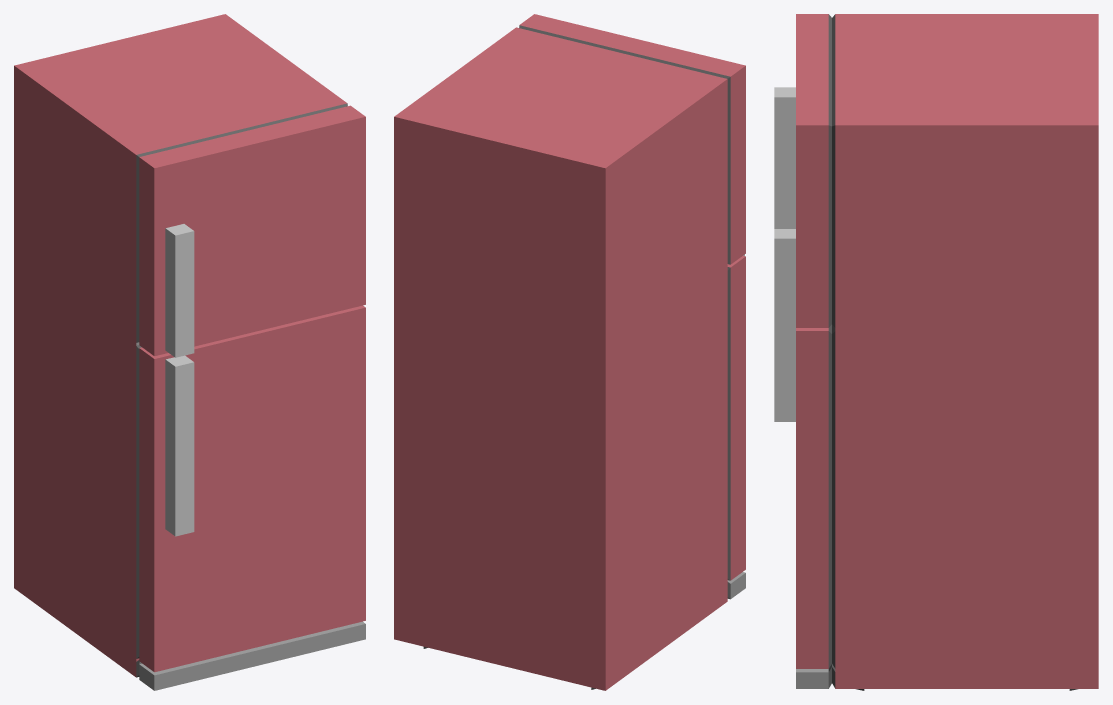
Rendered from Refrigerator8.fbx.
3 renders of one model, left to right at view 1: azimuth 30°, elevation 25°; view 2: azimuth 150°, elevation 25°; view 3: azimuth 270°, elevation 25°, orthographic. The views are drawn at different scales.
Visible parts, largest first — view 1: Cube; view 2: Cube; view 3: Cube.
Boxes of the visible parts, x1,y1,x2,y2 form: Cube: (14,14,365,690); Cube: (394,14,745,690); Cube: (774,14,1098,690).
Size of the model in its own units: 1 by 2.41 by 1.23.
